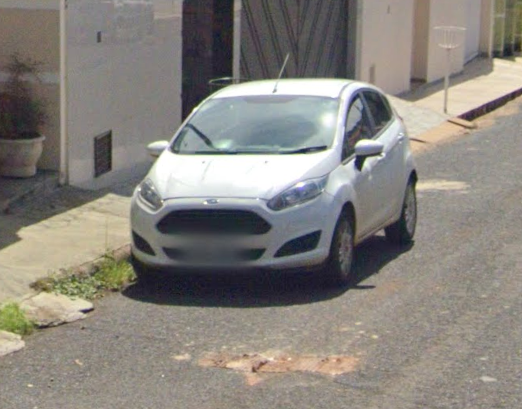car: (127, 50, 422, 295)
